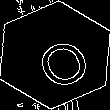O_NW: (21, 22, 89, 88)
